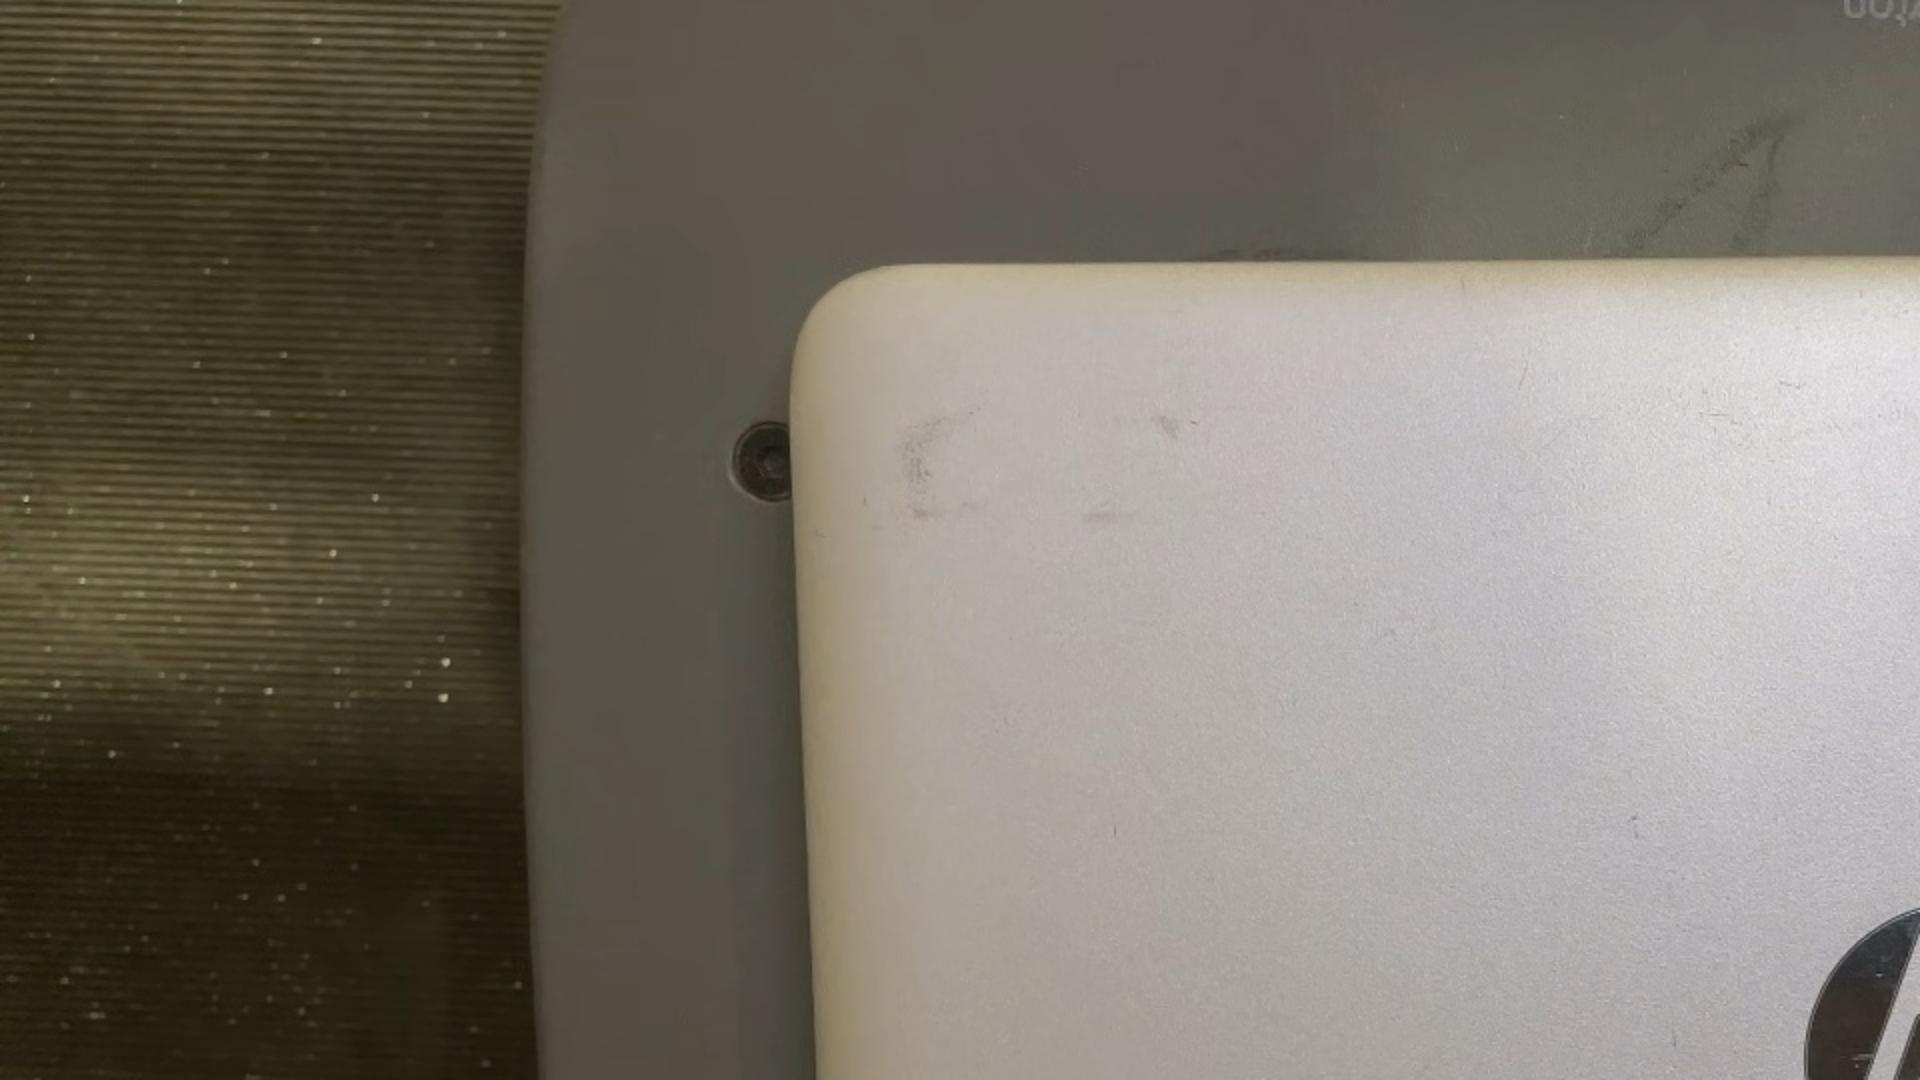scratches: (1668, 1022, 1680, 1051), (1849, 1051, 1876, 1063), (1874, 972, 1884, 978)
